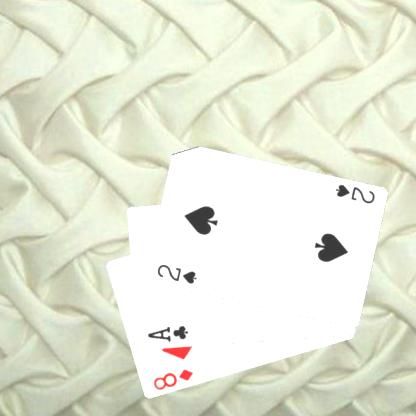2S: (154, 261, 198, 286), (332, 182, 376, 206)
8D: (150, 366, 195, 392)
AC: (145, 323, 189, 344)
